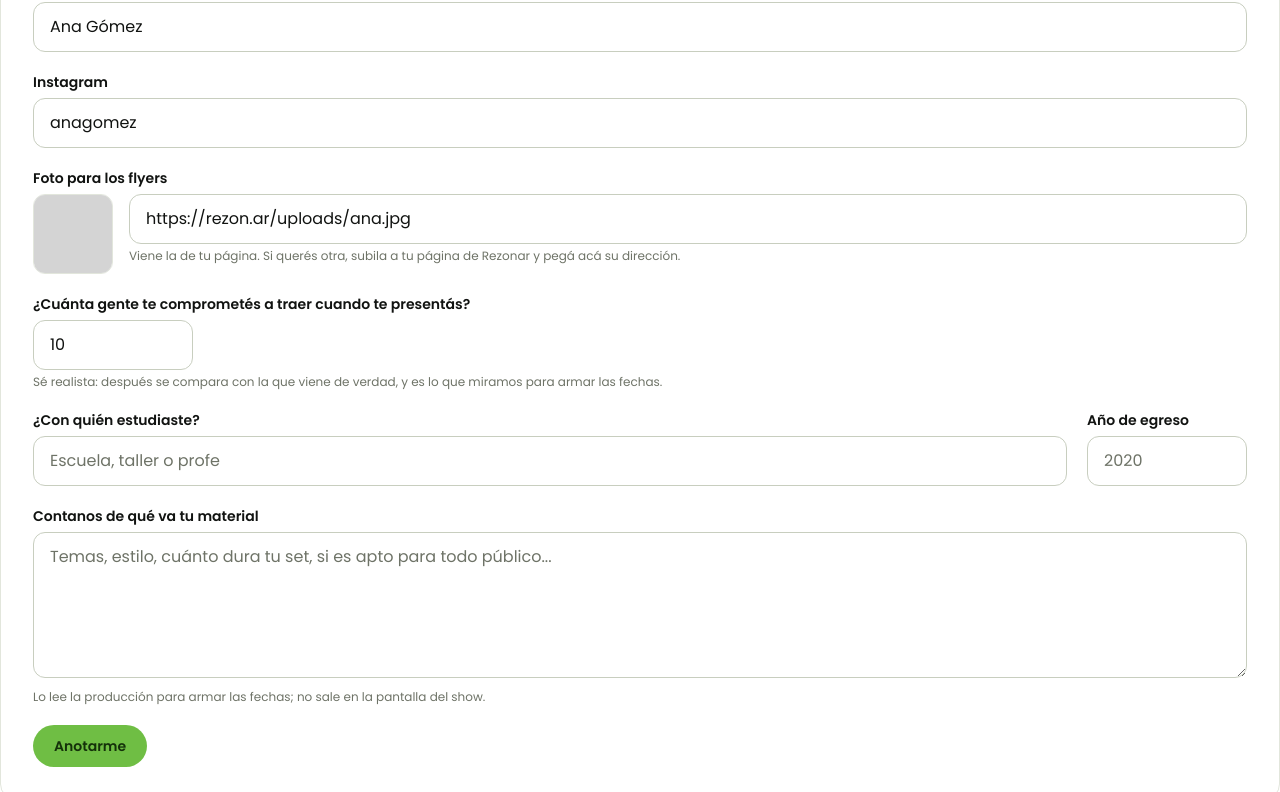
Scenario: Alta de comediante › muestra el error del servidor
(page scrolled)
Click the button "Anotarme". click: x=90, y=746
box: [33, 725, 147, 767]
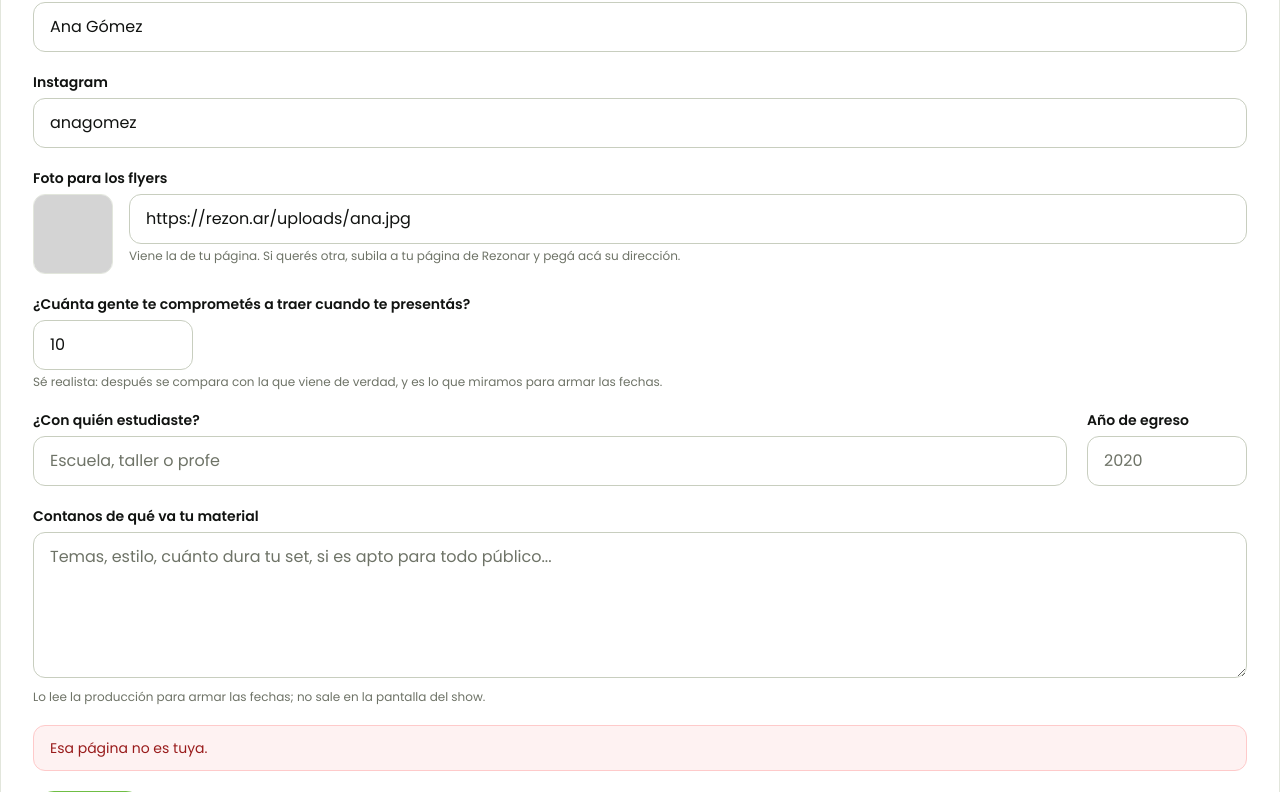
expect the text "Esa página no es tuya." is shown: met, box [33, 725, 1247, 771]
